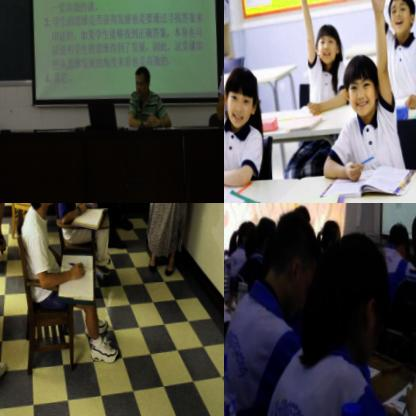head: (320, 231, 385, 363), (262, 211, 313, 316), (337, 54, 379, 117), (224, 63, 259, 130), (311, 23, 342, 67), (384, 0, 416, 42), (313, 217, 341, 256), (249, 212, 273, 254), (382, 220, 406, 260), (128, 65, 149, 101), (232, 219, 257, 248), (407, 208, 416, 281), (22, 203, 54, 213)
